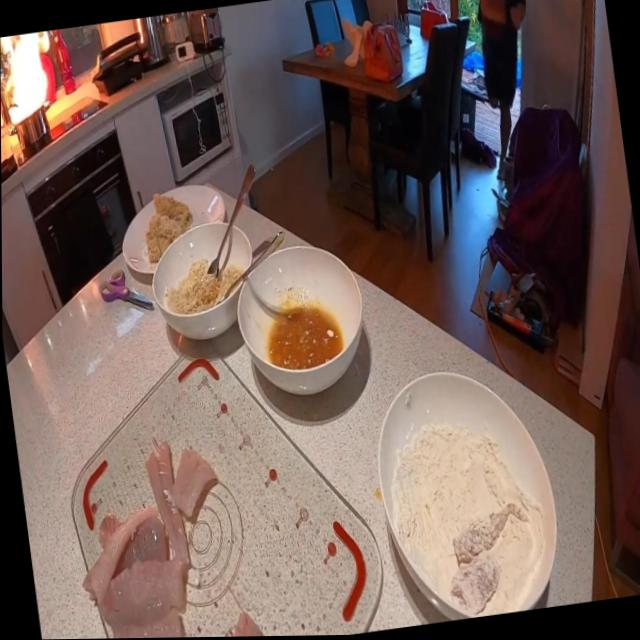fire: (0, 30, 61, 129)
